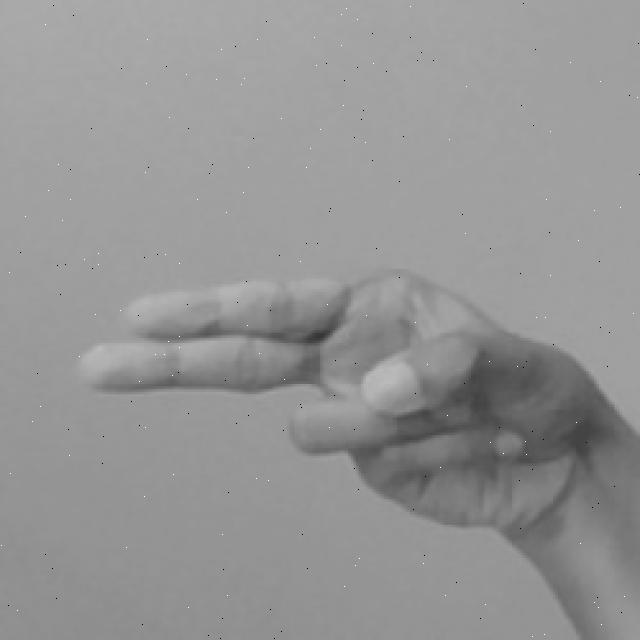H: (71, 255, 640, 637)
